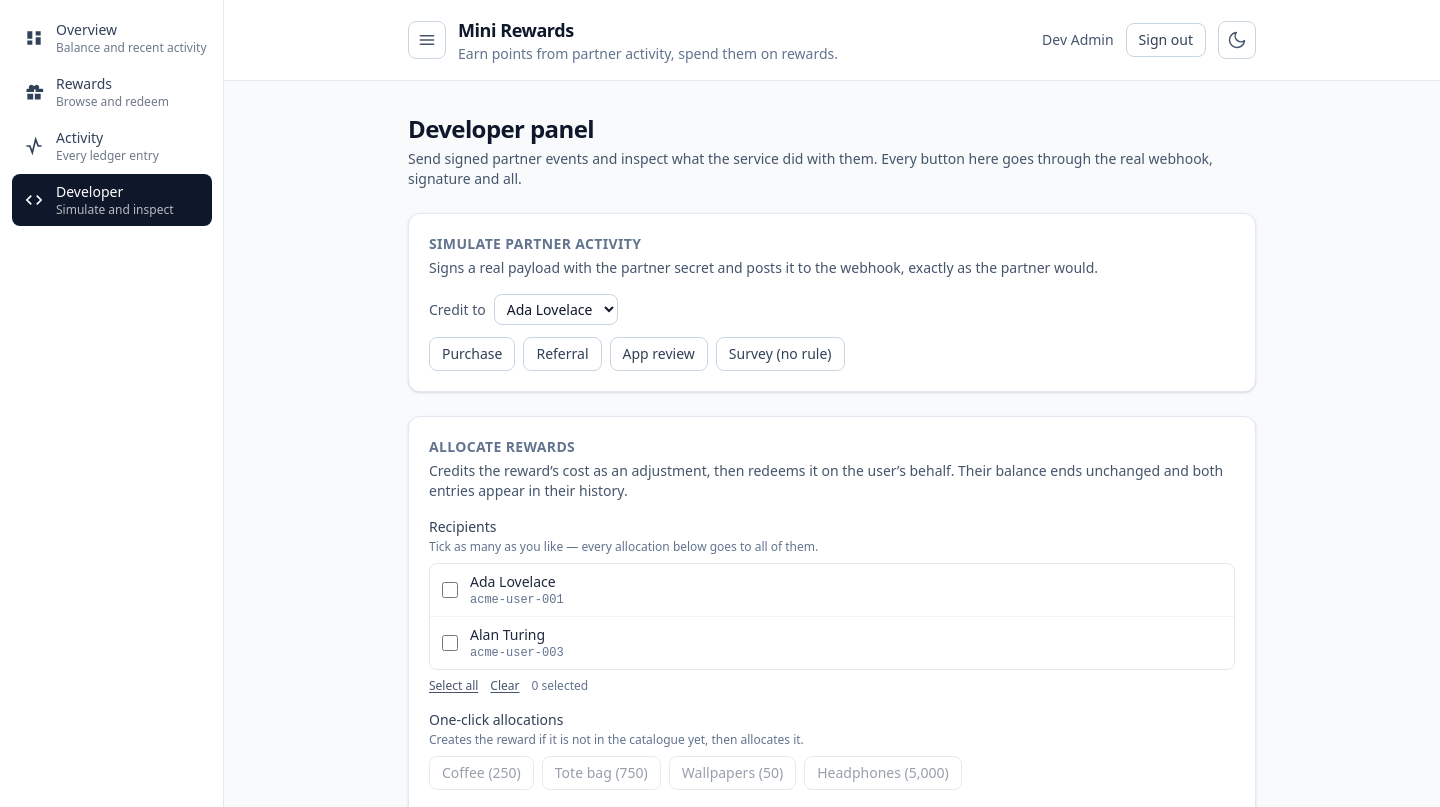
Test: the developer section › lets an administrator pick several recipients at once
Click the checkbox labelled "Ada Lovelace acme-user-001" at (450, 590), box top-left (442, 582), bottom-right (458, 598)
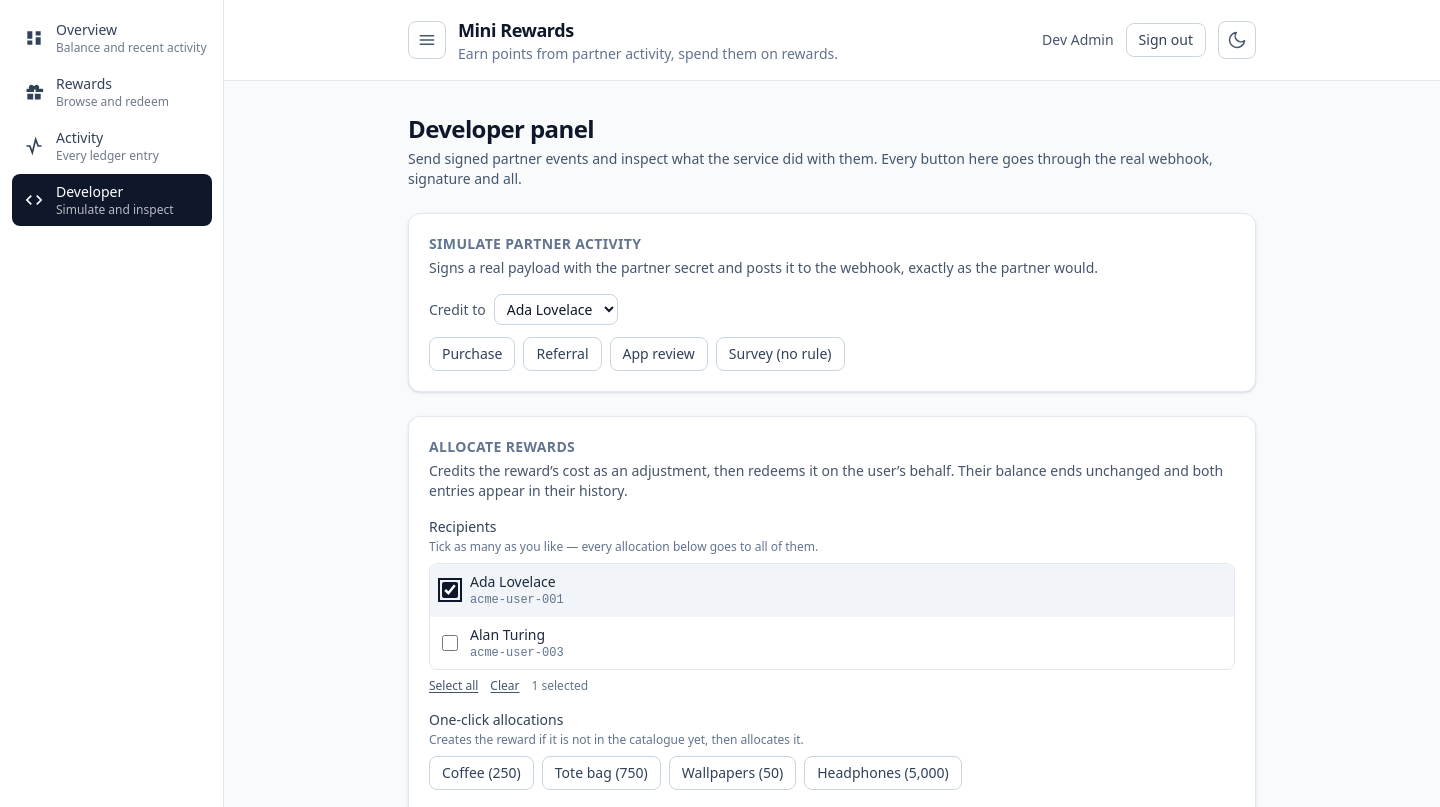
Click the checkbox labelled "Alan Turing acme-user-003" at (450, 643), box top-left (442, 635), bottom-right (458, 651)
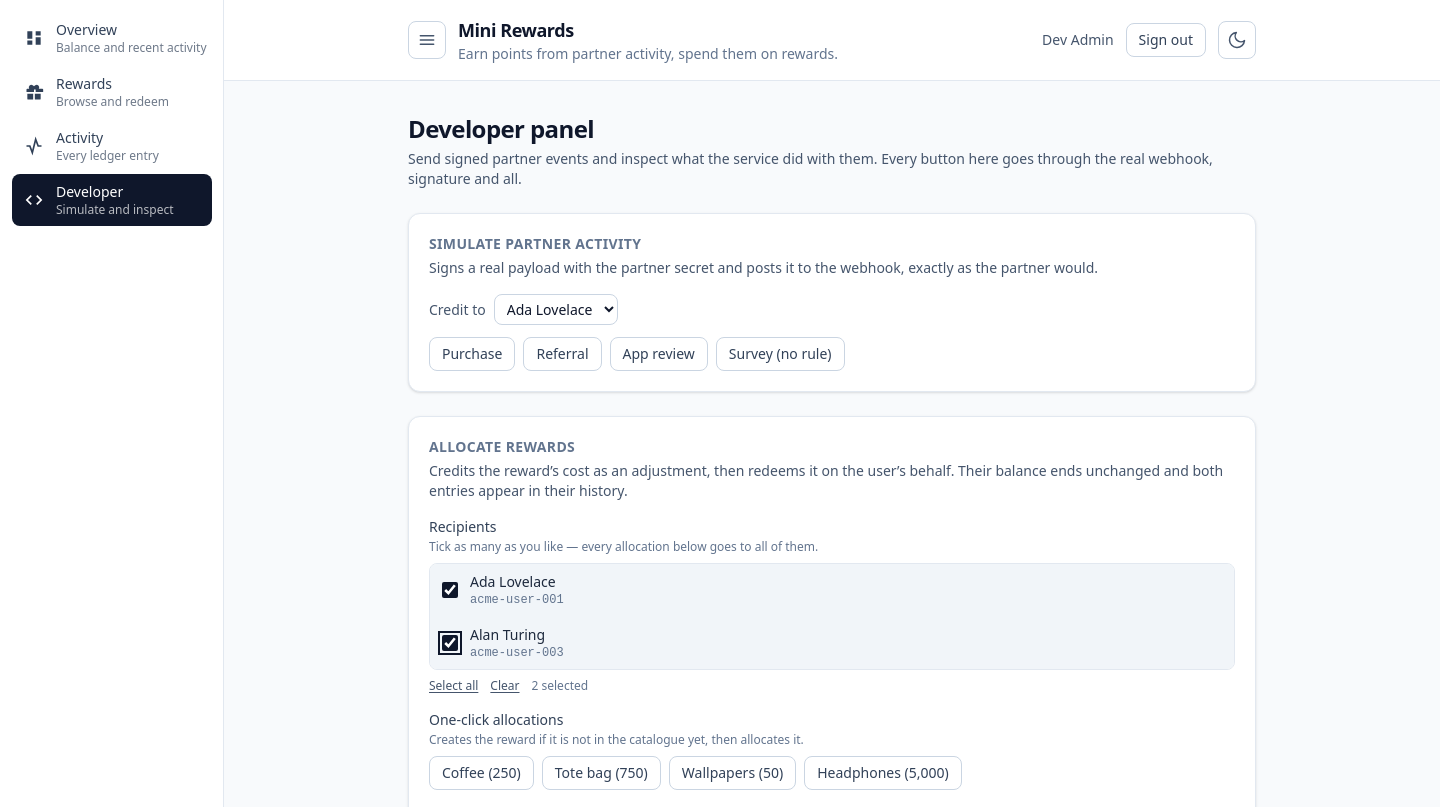
Now the checkbox labelled "Ada Lovelace acme-user-001" is checked
Now the checkbox labelled "Alan Turing acme-user-003" is checked, box top-left (442, 635), bottom-right (458, 651)
Now the text "2 selected" is shown, box top-left (532, 678), bottom-right (588, 694)
Click the checkbox labelled "Ada Lovelace acme-user-001" at (450, 590), box top-left (442, 582), bottom-right (458, 598)
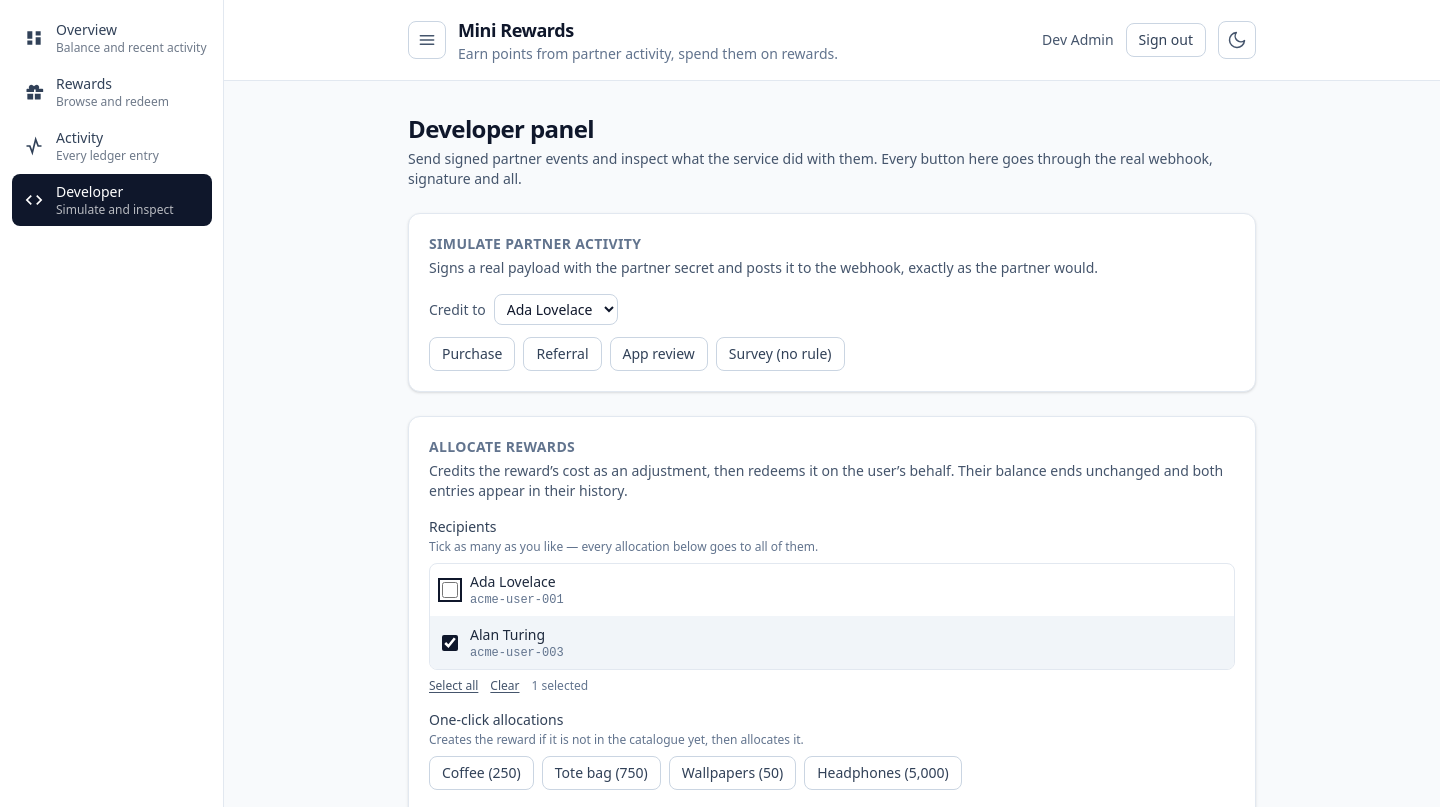
Now the checkbox labelled "Ada Lovelace acme-user-001" is not checked, box top-left (442, 582), bottom-right (458, 598)
Now the checkbox labelled "Alan Turing acme-user-003" is checked, box top-left (442, 635), bottom-right (458, 651)
Now the text "1 selected" is shown, box top-left (532, 678), bottom-right (588, 694)
